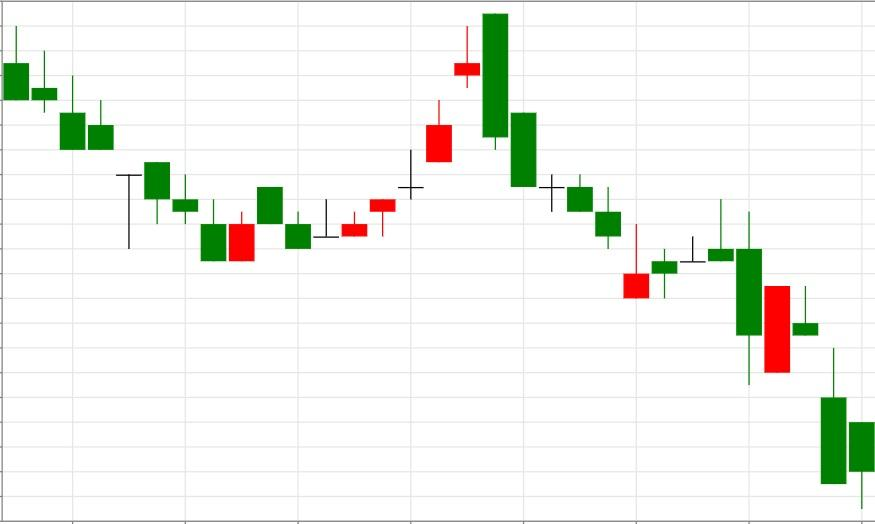bearish_engulfing_fall: (285, 14, 509, 248)
